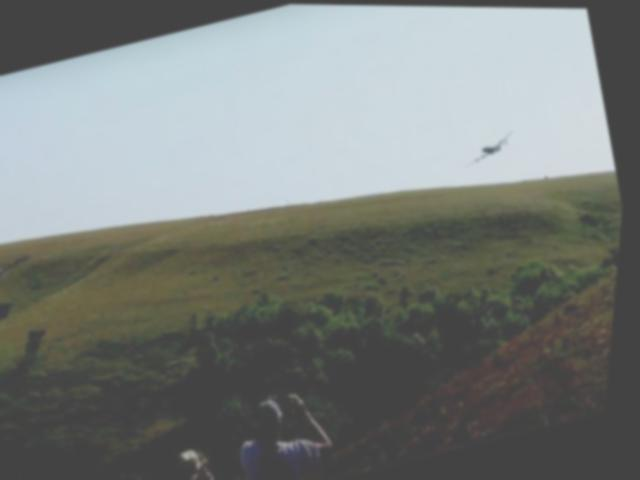iha: (464, 122, 524, 169)
